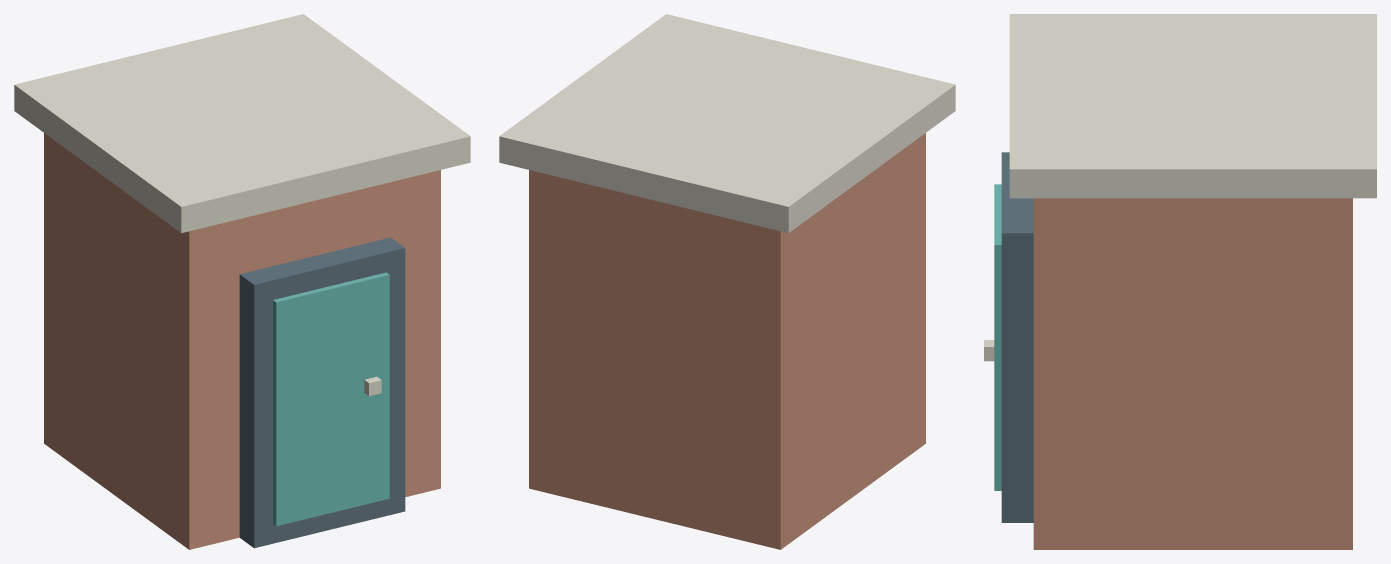
File: voxel-city-districts-roof-access-hut-c50416fa__24924.glb
3 views of the same model, side by side, from view 1: azimuth 30°, elevation 25°; view 2: azimuth 150°, elevation 25°; view 3: azimuth 270°, elevation 25° (orthographic). The views are drawn at different scales.
Parts seen in each view (by area): view 1: roof-access-hut-brick, roof-access-hut-concrete, roof-access-hut-accent, roof-access-hut-dark; view 2: roof-access-hut-brick, roof-access-hut-concrete; view 3: roof-access-hut-brick, roof-access-hut-concrete, roof-access-hut-dark, roof-access-hut-accent.
Part boxes in pixels (x1=…): roof-access-hut-brick: x1=44, y1=133, x2=440, y2=549; roof-access-hut-concrete: x1=14, y1=14, x2=470, y2=396; roof-access-hut-accent: x1=273, y1=272, x2=389, y2=526; roof-access-hut-dark: x1=239, y1=237, x2=405, y2=548; roof-access-hut-brick: x1=529, y1=133, x2=925, y2=549; roof-access-hut-concrete: x1=499, y1=14, x2=955, y2=233; roof-access-hut-brick: x1=1033, y1=198, x2=1352, y2=549; roof-access-hut-concrete: x1=984, y1=14, x2=1376, y2=361; roof-access-hut-dark: x1=1001, y1=152, x2=1033, y2=522; roof-access-hut-accent: x1=994, y1=184, x2=1001, y2=490.
Size of the model in its own units: 2.3 by 2.7 by 2.46.
